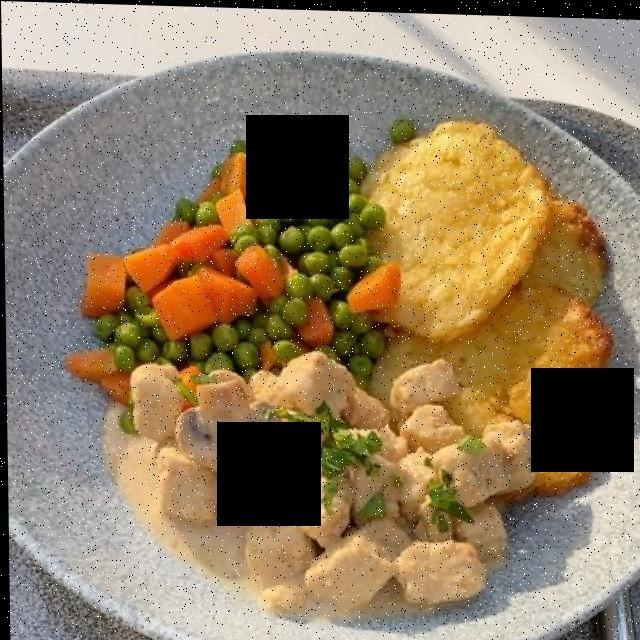mixed-vegetables: (82, 135, 395, 393)
mushroom: (141, 368, 282, 476)
rosti: (371, 116, 612, 501)
sauce: (93, 357, 510, 614)
